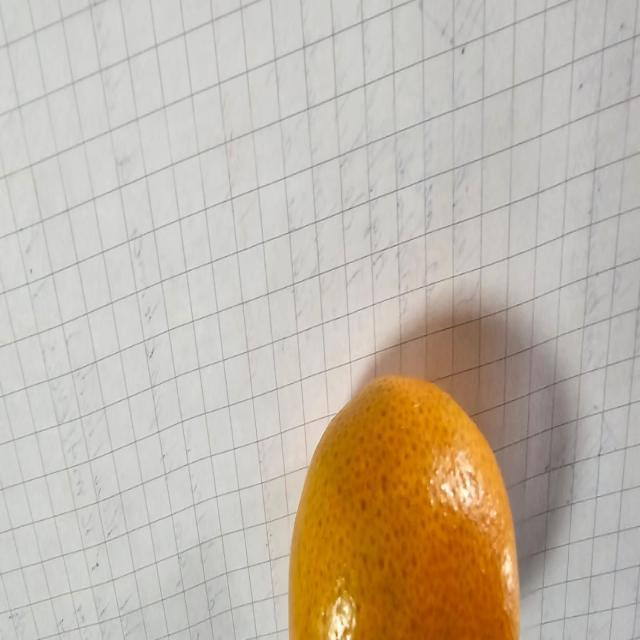Jeruk Mandarin: (279, 363, 529, 640)
